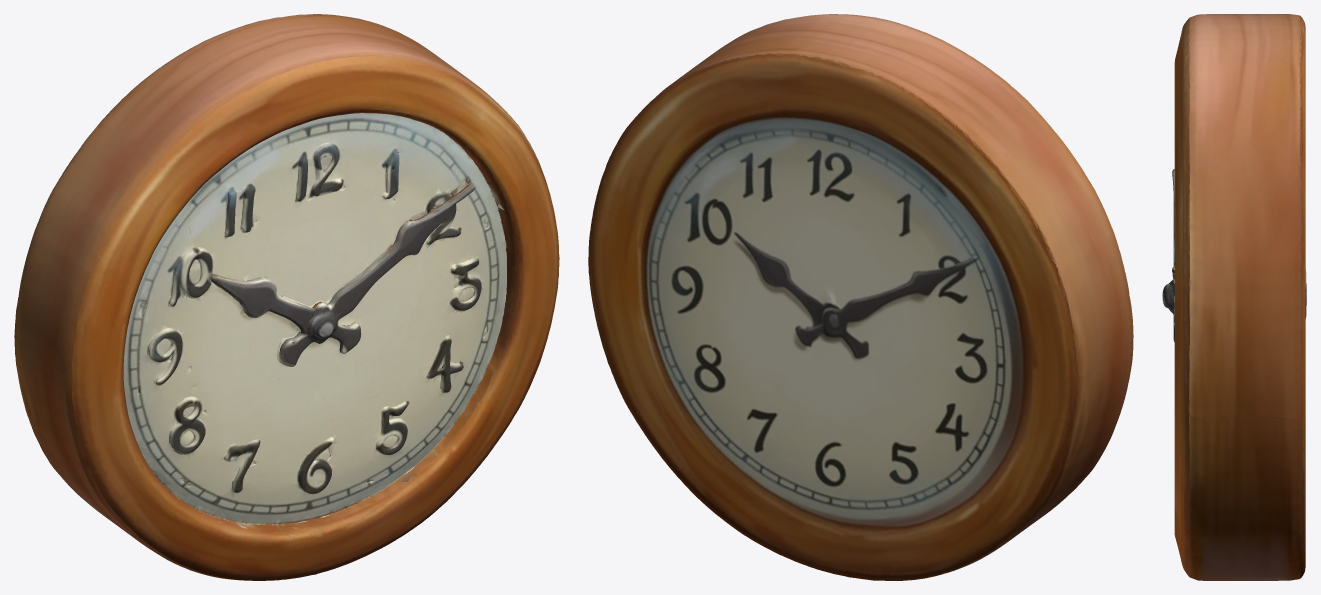
The model's file is clock-fixed.glb.
The picture shows the model from 3 angles, left to right: view 1: azimuth 30°, elevation 25°; view 2: azimuth 150°, elevation 25°; view 3: azimuth 270°, elevation 25°; orthographic projection.
Visible parts, largest first — view 1: geometry_0; view 2: geometry_0; view 3: geometry_0.
Part boxes in pixels (box(x1,y1,x2,y2)): geometry_0: box(14, 14, 559, 580); geometry_0: box(588, 14, 1133, 580); geometry_0: box(1162, 14, 1306, 580).
Size of the model in its own units: 0.3 by 0.3 by 0.0763.
Materials: 1 (1 with a texture image).
